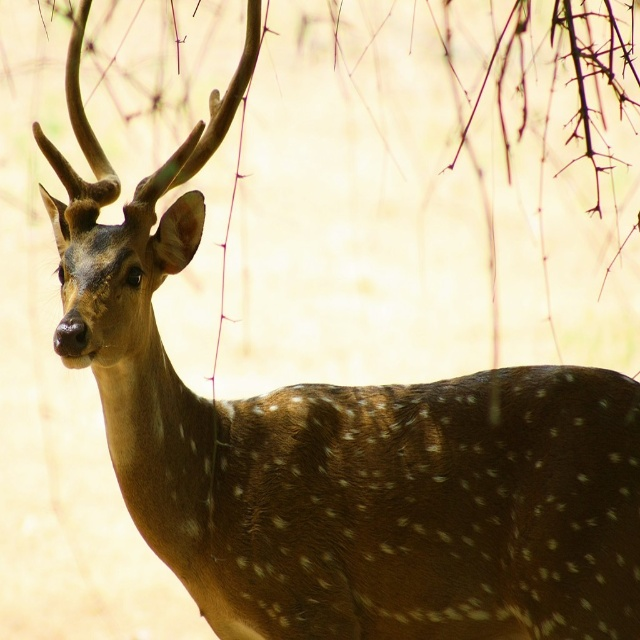Deer: (31, 0, 639, 639)
